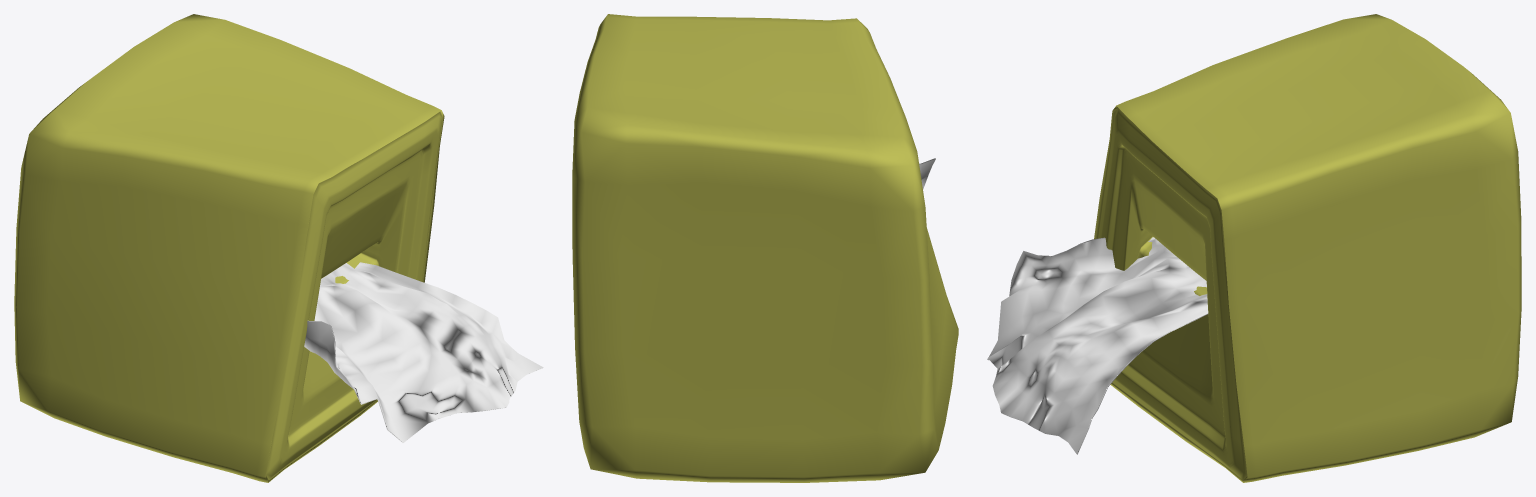
Rendered from kotaktisu.fbx.
3 views of the same model, side by side, from view 1: azimuth 30°, elevation 25°; view 2: azimuth 150°, elevation 25°; view 3: azimuth 270°, elevation 25° (orthographic). The views are drawn at different scales.
Parts seen in each view (by area): view 1: pCube2; view 2: pCube2; view 3: pCube2.
Part boxes in pixels (left/top/right/bottom): pCube2: left=14, top=14, right=543, bottom=482; pCube2: left=572, top=14, right=958, bottom=482; pCube2: left=987, top=14, right=1521, bottom=482.
Size of the model in its own units: 5.05 by 3.79 by 5.54.
